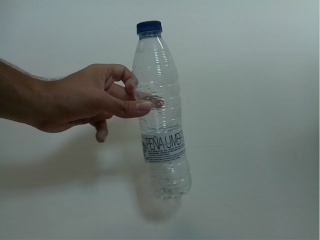botella plastico: (130, 18, 196, 201)
